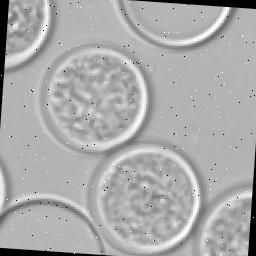picoshell: (87, 143, 200, 256), (35, 48, 147, 154), (113, 1, 233, 51), (0, 200, 103, 255), (192, 186, 250, 256), (4, 0, 52, 72), (0, 170, 4, 210)
